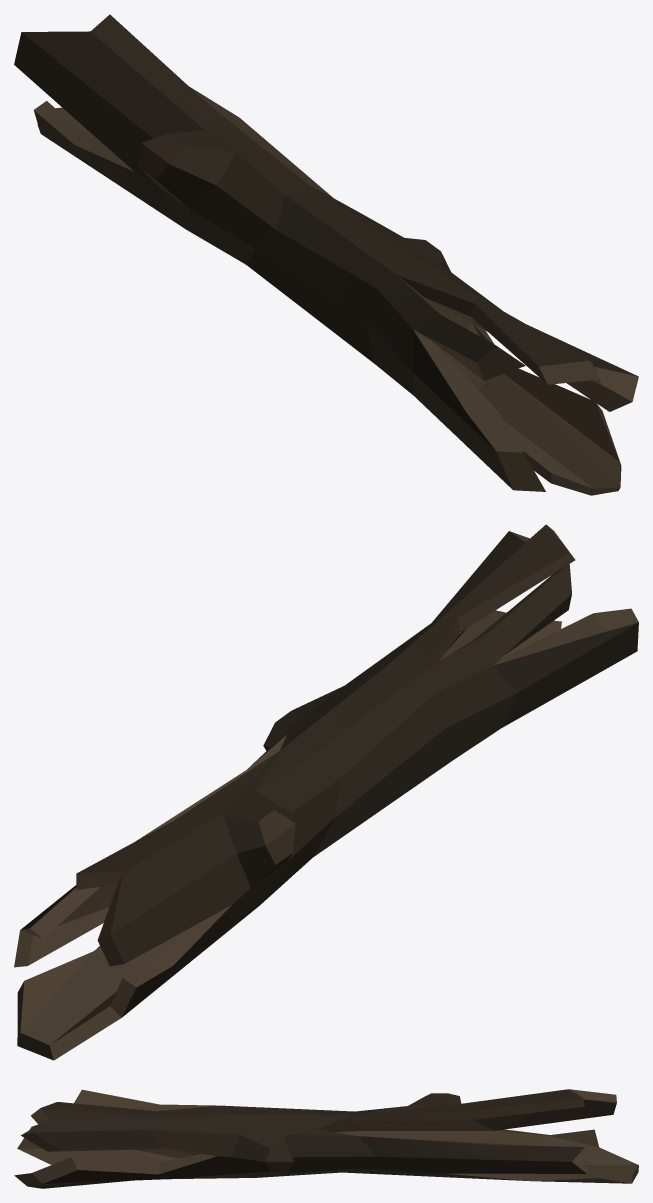
The model's file is synty-tree-log-01.gltf.
The picture shows the model from 3 angles, top to bottom: view 1: azimuth 30°, elevation 25°; view 2: azimuth 150°, elevation 25°; view 3: azimuth 270°, elevation 25°; orthographic projection. The views are drawn at different scales.
Visible parts, largest first — view 1: SM_Tree_Log_01; view 2: SM_Tree_Log_01; view 3: SM_Tree_Log_01.
Part boxes in pixels (left/top/right/bottom): SM_Tree_Log_01: left=14, top=14, right=638, bottom=495; SM_Tree_Log_01: left=14, top=524, right=638, bottom=1060; SM_Tree_Log_01: left=14, top=1089, right=638, bottom=1188.
Bounding box in the file's own units: 0.4939 × 0.4616 × 3.05.
1 material, 1 textured.
